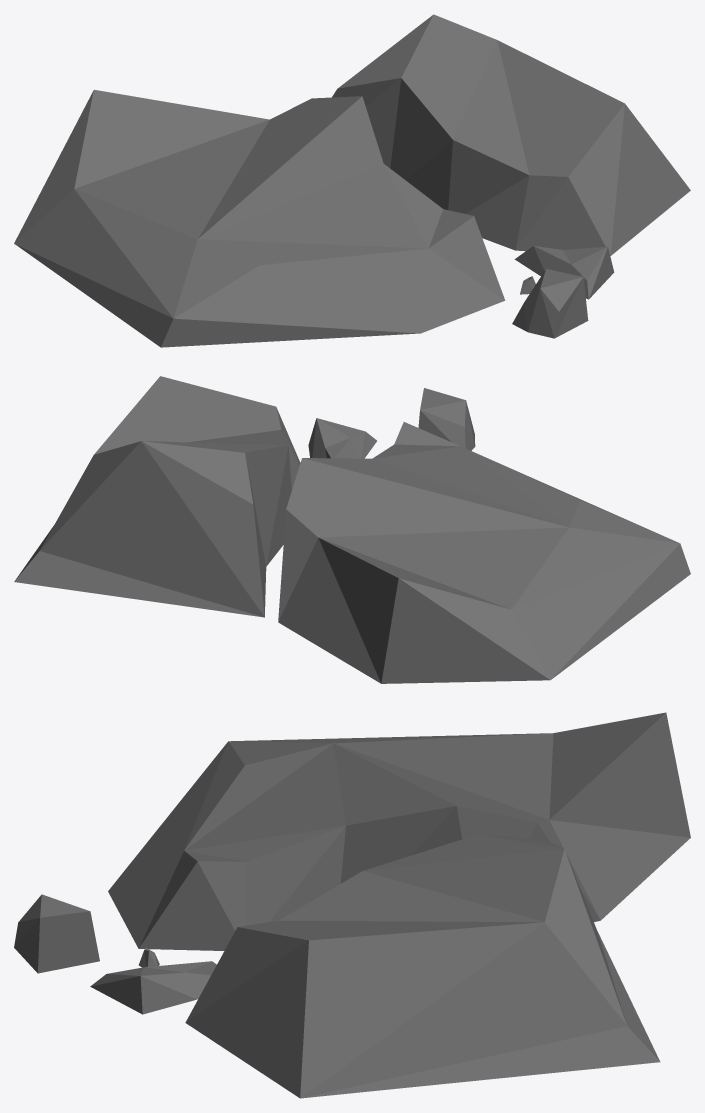
The model's file is Stone_A_09.FBX.
The picture shows the model from 3 angles, top to bottom: view 1: azimuth 30°, elevation 25°; view 2: azimuth 150°, elevation 25°; view 3: azimuth 270°, elevation 25°; orthographic projection. The views are drawn at different scales.
Parts seen in each view (by area): view 1: Stone_A_09; view 2: Stone_A_09; view 3: Stone_A_09.
Boxes of the visible parts, bbox=[...] form: Stone_A_09: bbox=[14, 14, 690, 347]; Stone_A_09: bbox=[14, 376, 690, 683]; Stone_A_09: bbox=[14, 712, 690, 1098].
Size of the model in its own units: 3.89 by 0.8771 by 3.33.
